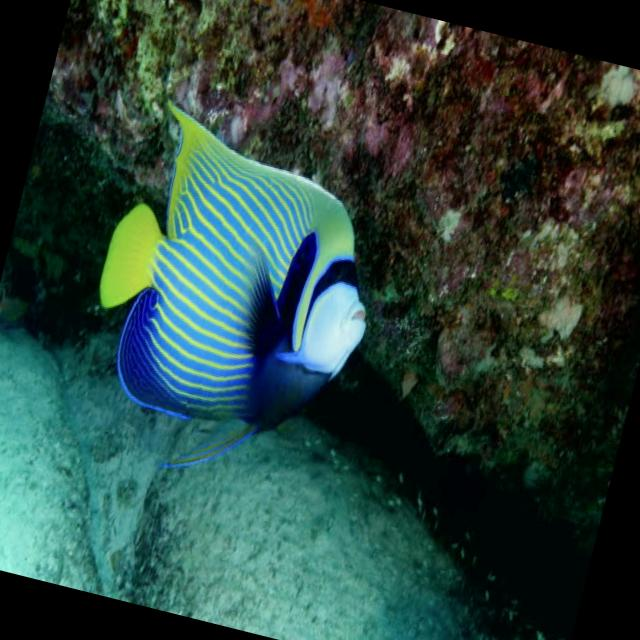AngelFish: (69, 98, 408, 468)
